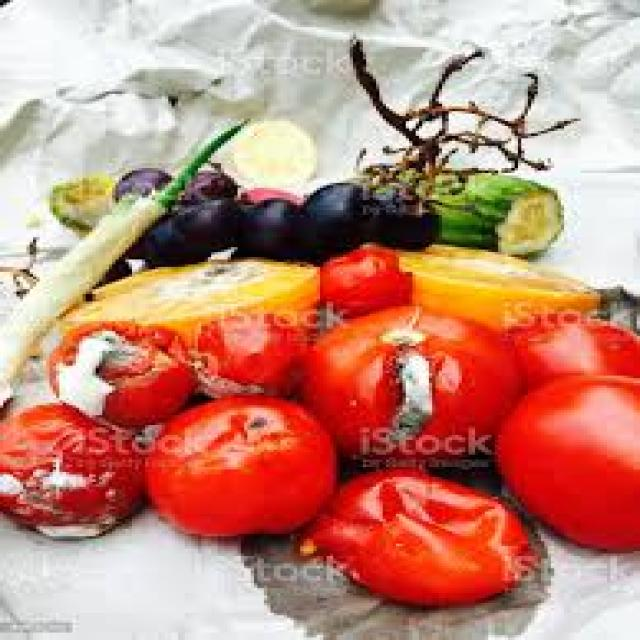food_waste: (0, 121, 637, 603)
